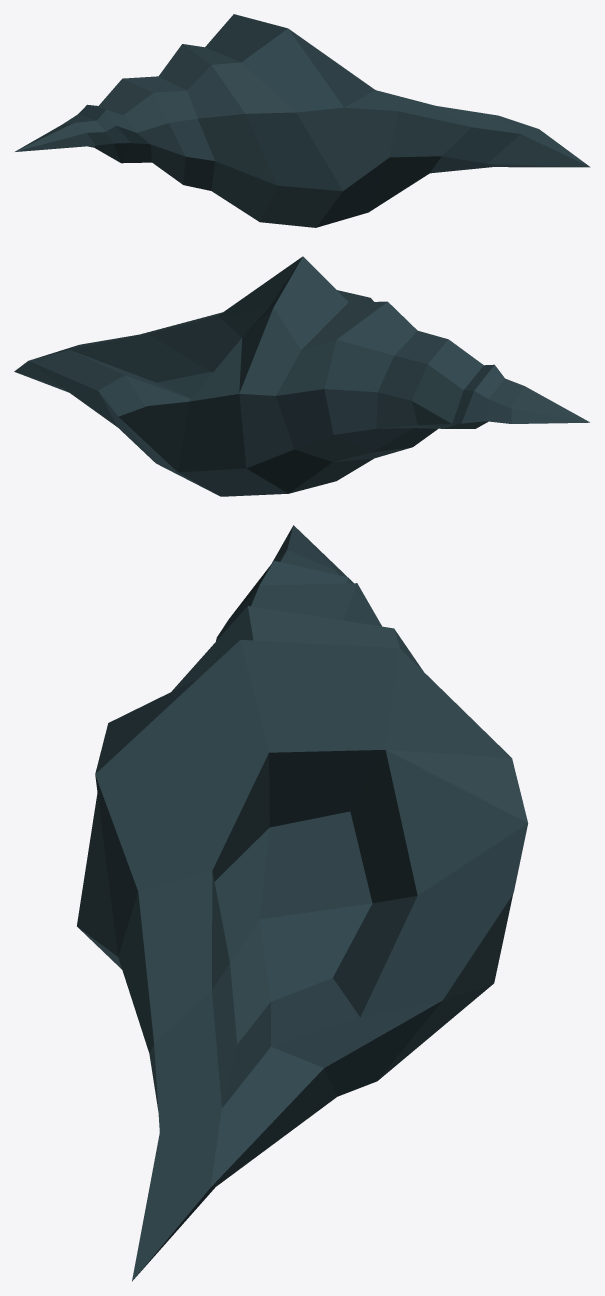
The model's file is Assets - SeaShell1.0 .fbx.
3 views of the same model, one above another, from view 1: azimuth 30°, elevation 25°; view 2: azimuth 150°, elevation 25°; view 3: azimuth 270°, elevation 25° (orthographic). The views are drawn at different scales.
Parts seen in each view (by area): view 1: SeaShell; view 2: SeaShell; view 3: SeaShell.
Boxes of the visible parts, left/top/right/bottom form: SeaShell: left=15, top=14, right=590, bottom=227; SeaShell: left=14, top=256, right=589, bottom=496; SeaShell: left=77, top=525, right=528, bottom=1281.
Size of the model in its own units: 248 by 89.26 by 90.21.
